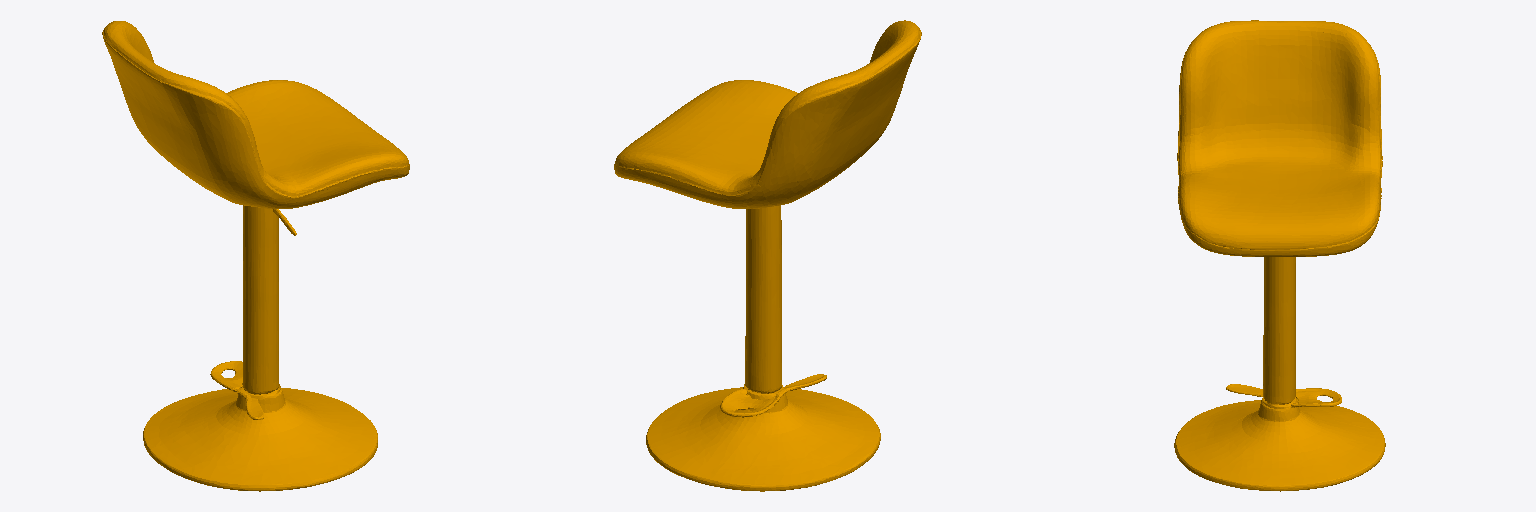
robot.urdf — bar_stool_35:
<?xml version="1.0" ?>
<robot name="bar_stool_35">
   <link name="bar_stool_35">
      <visual>
         <origin xyz="0 0 0" rpy="1.5708 0.0 0.0"/>
         <geometry>
            <mesh filename="mesh/bar_stool_35.obj" scale="1.0 1.0 1.0"/>
         </geometry>
      </visual>
      <collision>
         <origin xyz="0 0 0" rpy="1.5708 0.0 0.0"/>
         <geometry>
            <mesh filename="mesh/bar_stool_35_collision.obj" scale="1.0 1.0 1.0"/>
         </geometry>
         <gazebo>
            <mu1>0.80</mu1>
            <mu2>0.60</mu2>
         </gazebo>
      </collision>
      <inertial>
         <mass value="8.0000"/>
         <origin xyz="0 0 0"/>
         <inertia ixx="1.0" ixy="0.0" ixz="0.0" iyy="1.0" iyz="0.0" izz="1.0"/>
      </inertial>
      <extra_info>
         <scale>0.950000</scale>
         <version>v0.1.5</version>
         <category>bar_stool</category>
         <description>modern bar stool with curved backrest and circular base</description>
         <min_height>0.85</min_height>
         <max_height>1.05</max_height>
         <real_height>0.95</real_height>
         <min_mass>6.0</min_mass>
         <max_mass>10.0</max_mass>
         <generate_time>20251021124258</generate_time>
         <gs_model>mesh/bar_stool_35_gs.ply</gs_model>
      </extra_info>
   </link>
   <custom_data>
      <quality>
         <MeshGeoChecker>YES</MeshGeoChecker>
         <ImageSegChecker>YES</ImageSegChecker>
         <ImageAestheticChecker>5.0418418645858765</ImageAestheticChecker>
         <overall>YES</overall>
      </quality>
   </custom_data>
</robot>

--- Facts derived from the render (not from the file) ---
Views: 3 orthographic renders of the robot side by side, from view 1: azimuth 30°, elevation 25°; view 2: azimuth 150°, elevation 25°; view 3: azimuth 270°, elevation 25°.
Robot: bar_stool_35 — 1 links, 0 joints (none); root link bar_stool_35; default pose: all joints at 0.
Visible links, largest first — view 1: bar_stool_35; view 2: bar_stool_35; view 3: bar_stool_35.
Link boxes in pixels (x1=…): bar_stool_35: x1=102, y1=21, x2=409, y2=491; bar_stool_35: x1=614, y1=20, x2=921, y2=491; bar_stool_35: x1=1174, y1=20, x2=1385, y2=491.
Bounding box of the posed robot: 0.5827 × 0.4872 × 0.95 m (x, y, z).
1 mesh visuals loaded from 1 distinct referenced files (1 OBJ).
